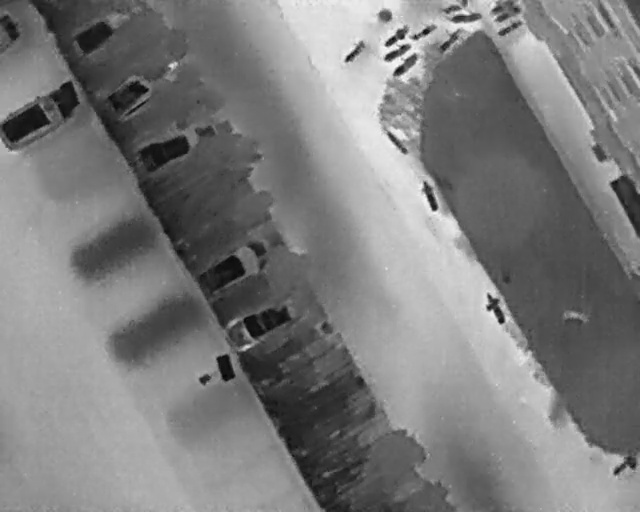Bicycle: (479, 286, 513, 331), (434, 22, 467, 57), (389, 48, 423, 81), (380, 123, 411, 159), (415, 176, 443, 215), (377, 22, 413, 52), (379, 38, 415, 67), (405, 18, 440, 47), (607, 450, 639, 480), (340, 35, 369, 66), (494, 16, 527, 38), (490, 3, 523, 25), (450, 10, 483, 24), (488, 0, 517, 15)
Car: (186, 224, 292, 307), (97, 49, 192, 129), (217, 285, 317, 357), (130, 113, 233, 180), (0, 77, 80, 151), (64, 0, 145, 63), (0, 10, 22, 54)
